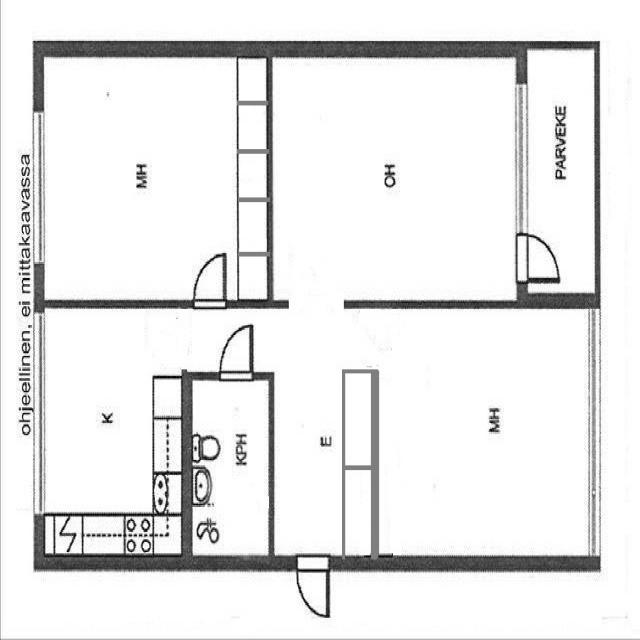door: (516, 234, 558, 282), (296, 557, 328, 620), (194, 253, 226, 310), (220, 325, 252, 381)
